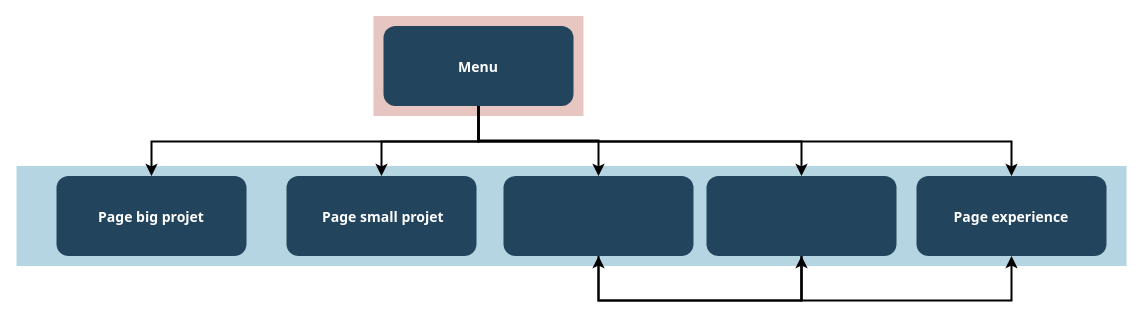
The diagram is 1143 pixels wide and 317 high, and some of its shapes have lost their labels. Each missing label, with the centre of its shape:
Page Life: (x=598, y=216)
Page Valeur: (x=801, y=216)
